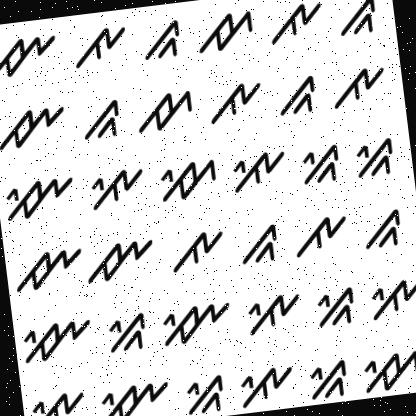a: (288, 208, 352, 264), (164, 224, 228, 280), (203, 76, 265, 130), (325, 59, 388, 112), (70, 22, 132, 70), (263, 0, 326, 43)
i: (222, 141, 292, 197), (231, 361, 298, 412), (239, 288, 304, 340), (82, 164, 146, 212), (364, 272, 416, 324), (24, 387, 88, 416)
ja: (131, 84, 199, 138), (194, 6, 260, 56)
ji: (152, 152, 221, 206), (353, 345, 416, 395)
ngga: (266, 72, 324, 124), (73, 95, 129, 148), (136, 15, 188, 66), (357, 205, 406, 255), (330, 0, 380, 44), (236, 221, 280, 268)
nggi: (100, 306, 152, 362), (350, 134, 404, 184), (175, 370, 229, 416), (302, 356, 352, 405), (307, 282, 358, 330), (297, 142, 344, 191)
nja: (10, 238, 86, 302), (84, 234, 160, 292), (0, 98, 69, 155), (0, 29, 61, 87)
nji: (0, 165, 82, 229), (152, 294, 238, 354), (14, 311, 96, 373), (91, 374, 173, 416)
